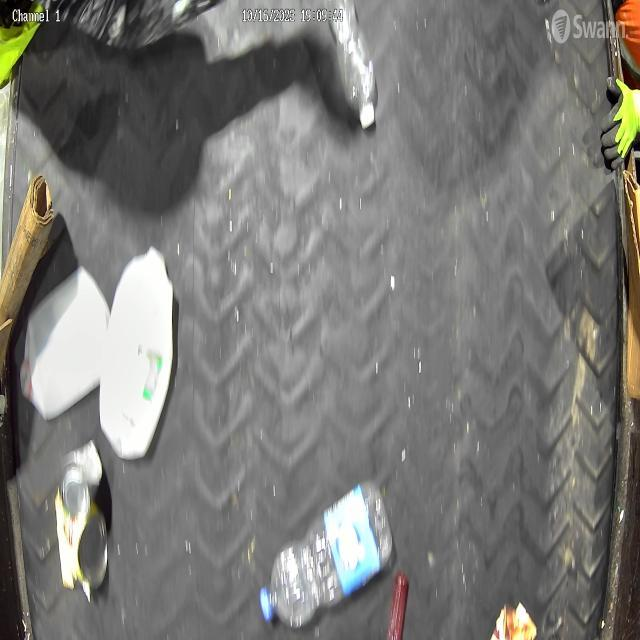can: (54, 461, 112, 598)
milk_jug: (99, 242, 175, 463), (16, 264, 116, 422)
plastic_bottle: (258, 478, 394, 631), (327, 0, 378, 134)
